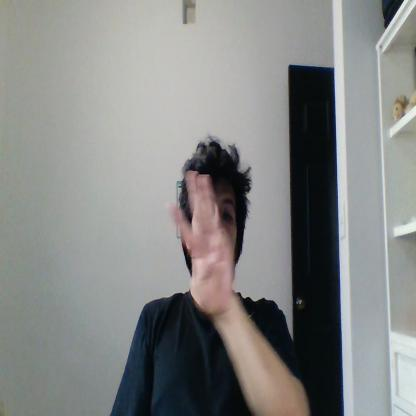W: (170, 169, 233, 313)
